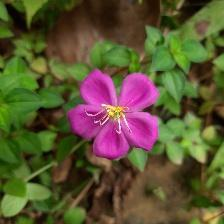malabar melastome: (70, 69, 163, 165)
